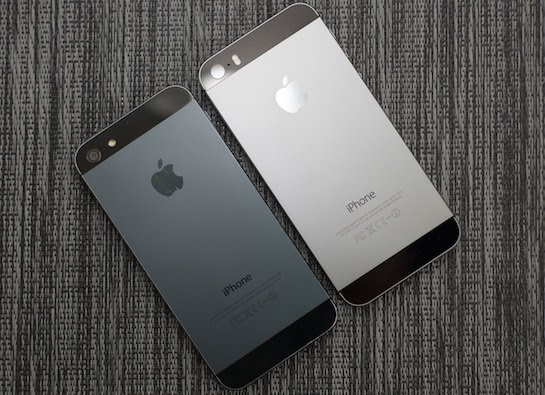apple: (135, 149, 196, 201), (264, 76, 314, 116)
